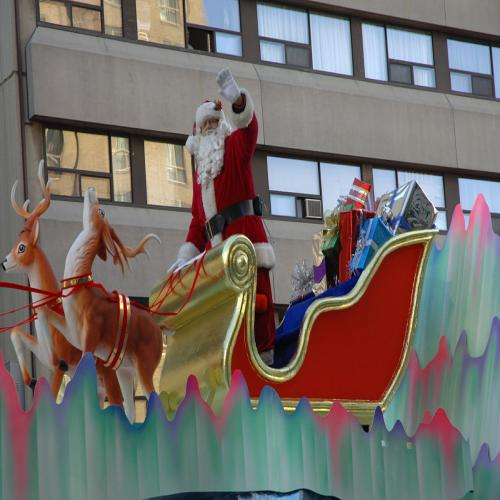Santa: (179, 68, 274, 362)
